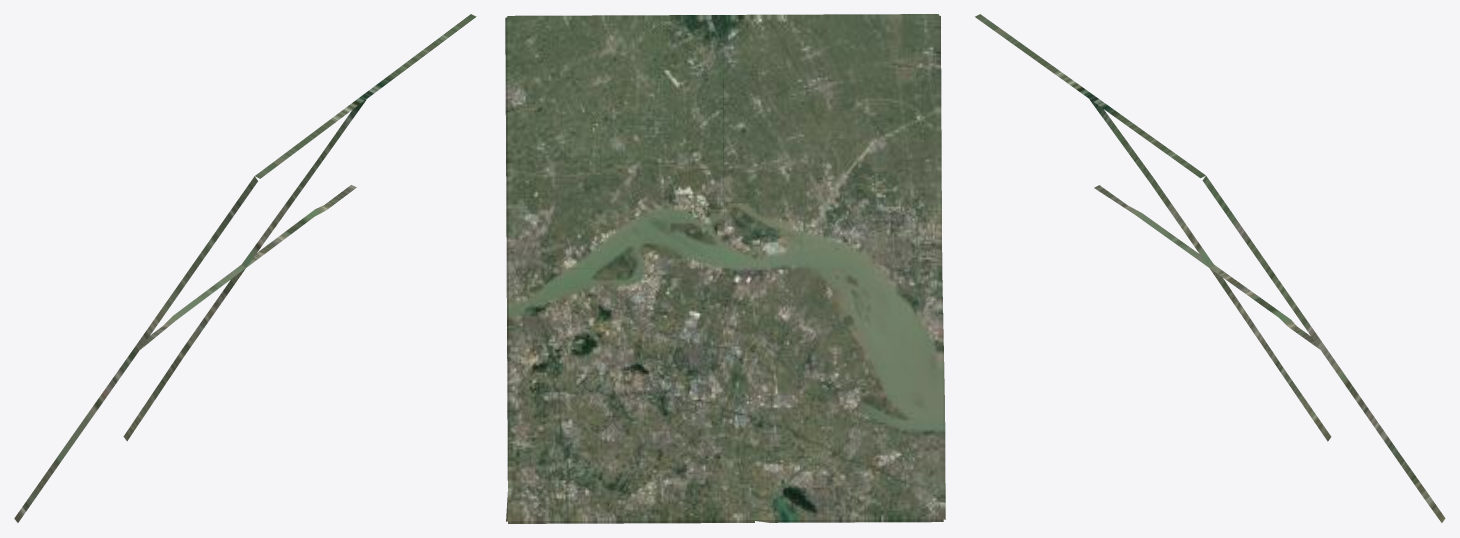
3 renders of one model, left to right at view 1: azimuth 30°, elevation 25°; view 2: azimuth 150°, elevation 25°; view 3: azimuth 270°, elevation 25°, orthographic. The views are drawn at different scales.
Size of the model in its own units: 79354 by 67195 by 70594.
Materials: 1 (1 with a texture image).
